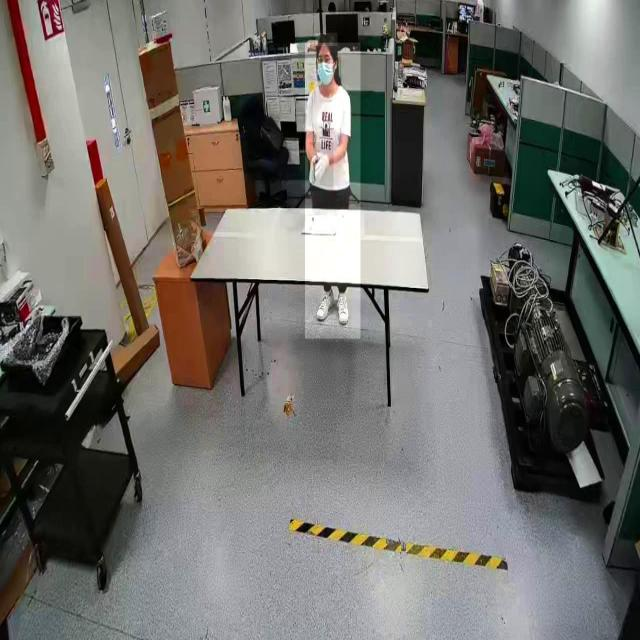face_mask: (316, 42, 340, 84)
hand_glove: (308, 142, 334, 191)
head_nohelmet: (316, 33, 338, 47)
person: (305, 43, 361, 340)
shoes: (315, 288, 335, 324), (336, 289, 350, 326)
